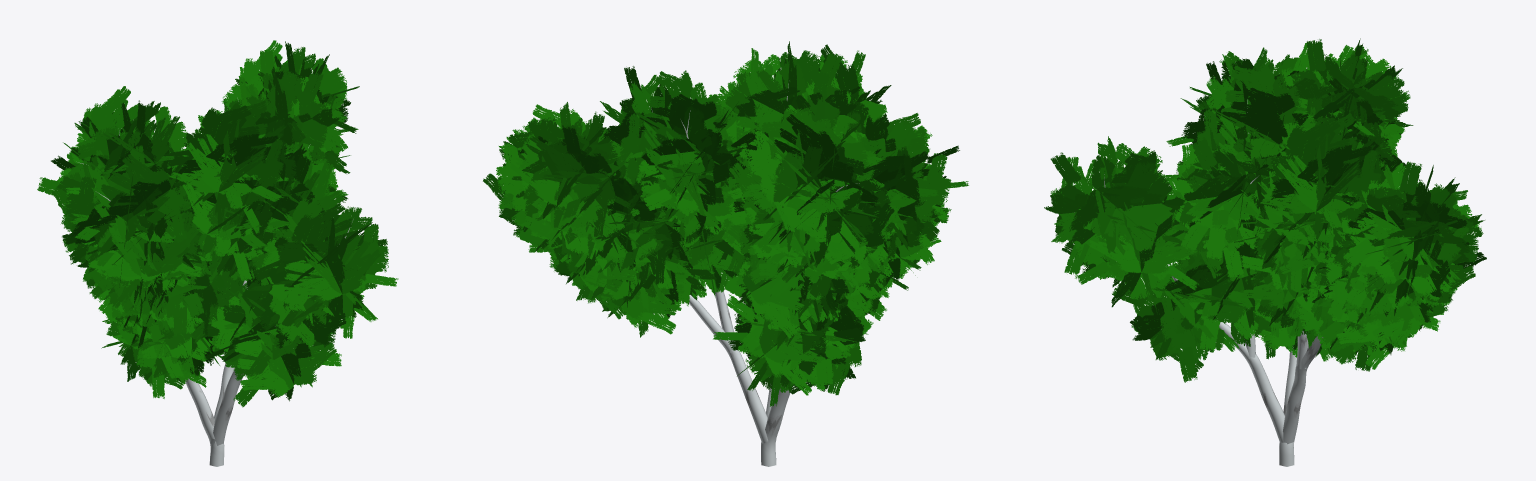
File: TreeMesh.fbx
The picture shows the model from 3 angles, left to right: view 1: azimuth 30°, elevation 25°; view 2: azimuth 150°, elevation 25°; view 3: azimuth 270°, elevation 25°; orthographic projection. The views are drawn at different scales.
Parts seen in each view (by area): view 1: leaves, tree; view 2: leaves, tree; view 3: leaves, tree.
Boxes of the visible parts, box(x1,y1,x2,y2) form: leaves: box(37, 40, 398, 407); tree: box(78, 98, 353, 466); leaves: box(483, 41, 968, 406); tree: box(651, 83, 859, 466); leaves: box(1044, 38, 1486, 382); tree: box(1104, 67, 1339, 466).
Size of the model in its own units: 900 by 842 by 895.
